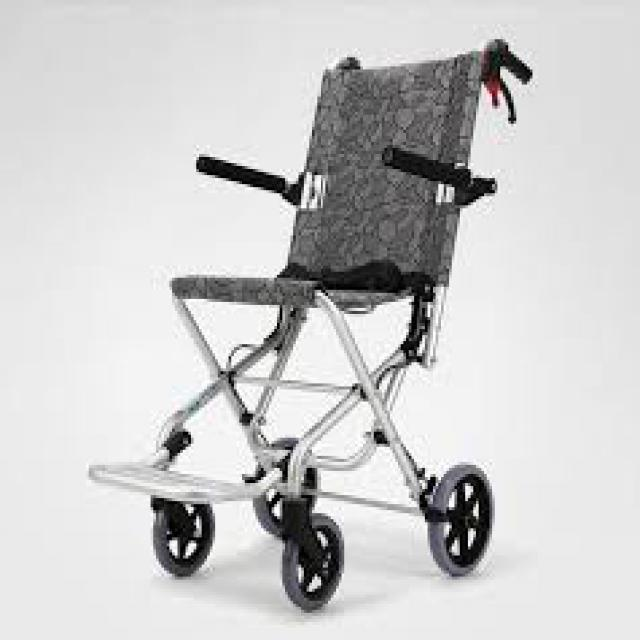wheelchair: (72, 15, 580, 637)
